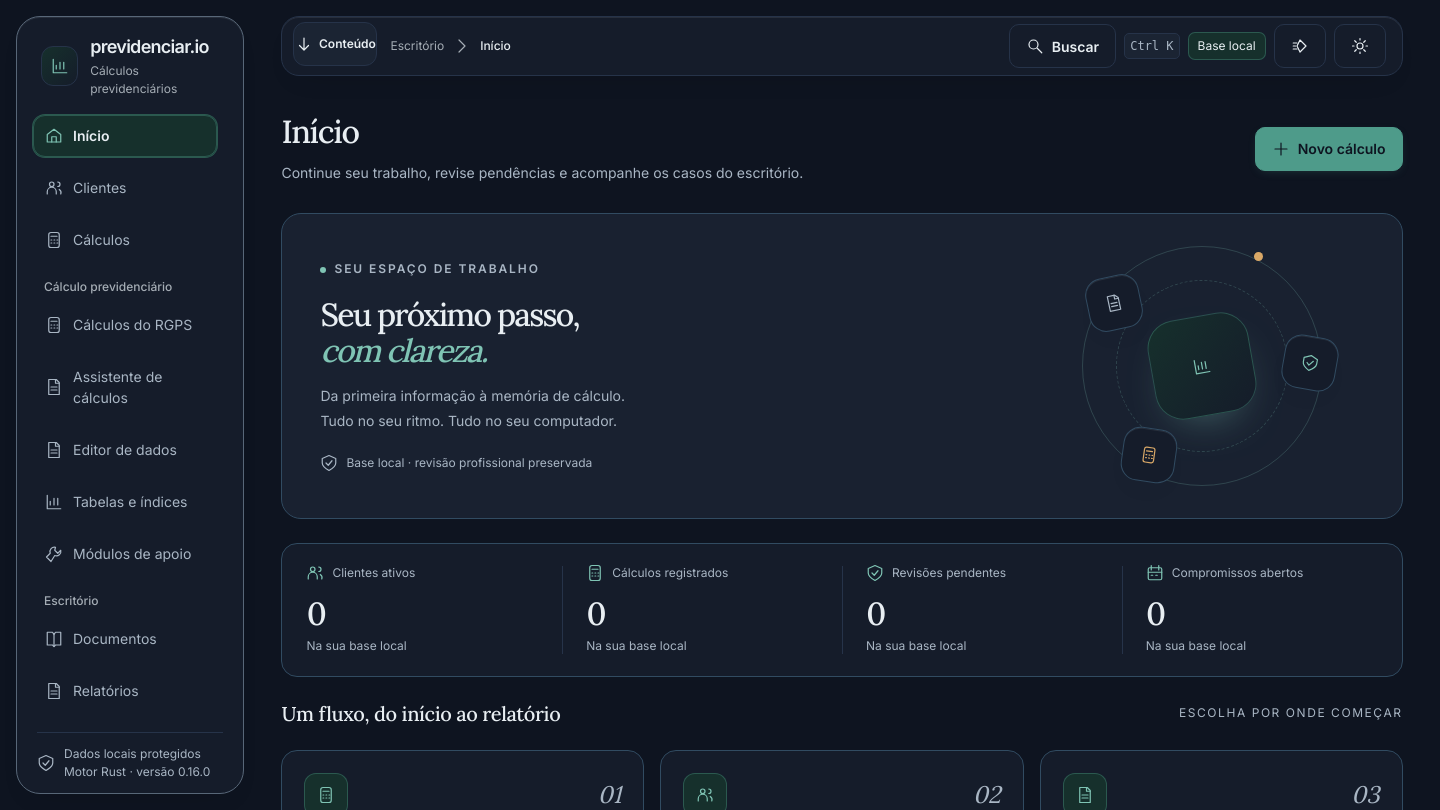
Test: desktop UI workflows with mocked IPC boundary › does not accept malformed client birth date
The width and height of the screenshot is (1440, 810).
Expected: the heading "Início" is shown, [281, 111, 359, 152]
Click the button "Clientes" at coordinates (125, 188), box [32, 166, 218, 210]
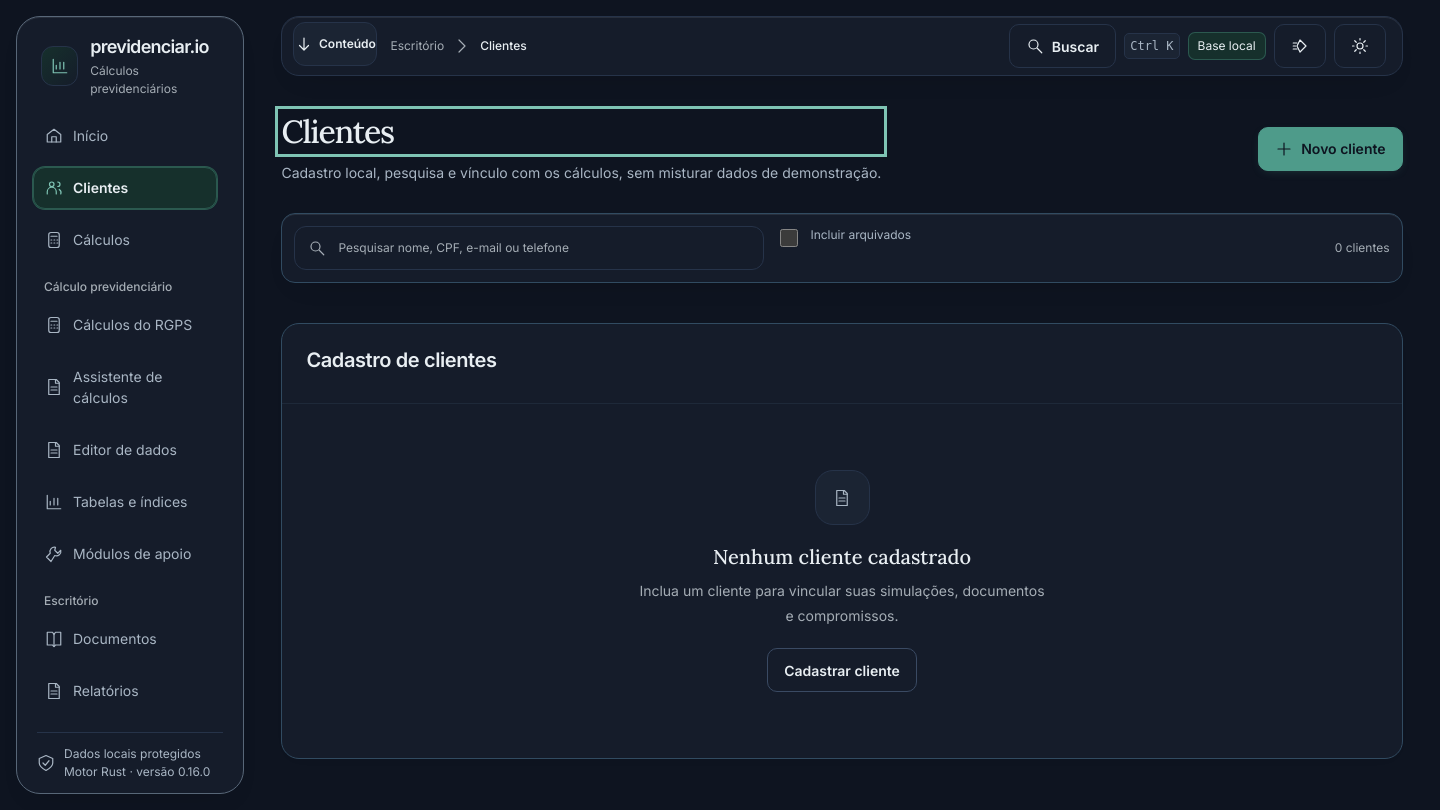
Click the button "Novo cliente" at coordinates (1330, 149), box [1258, 127, 1402, 171]
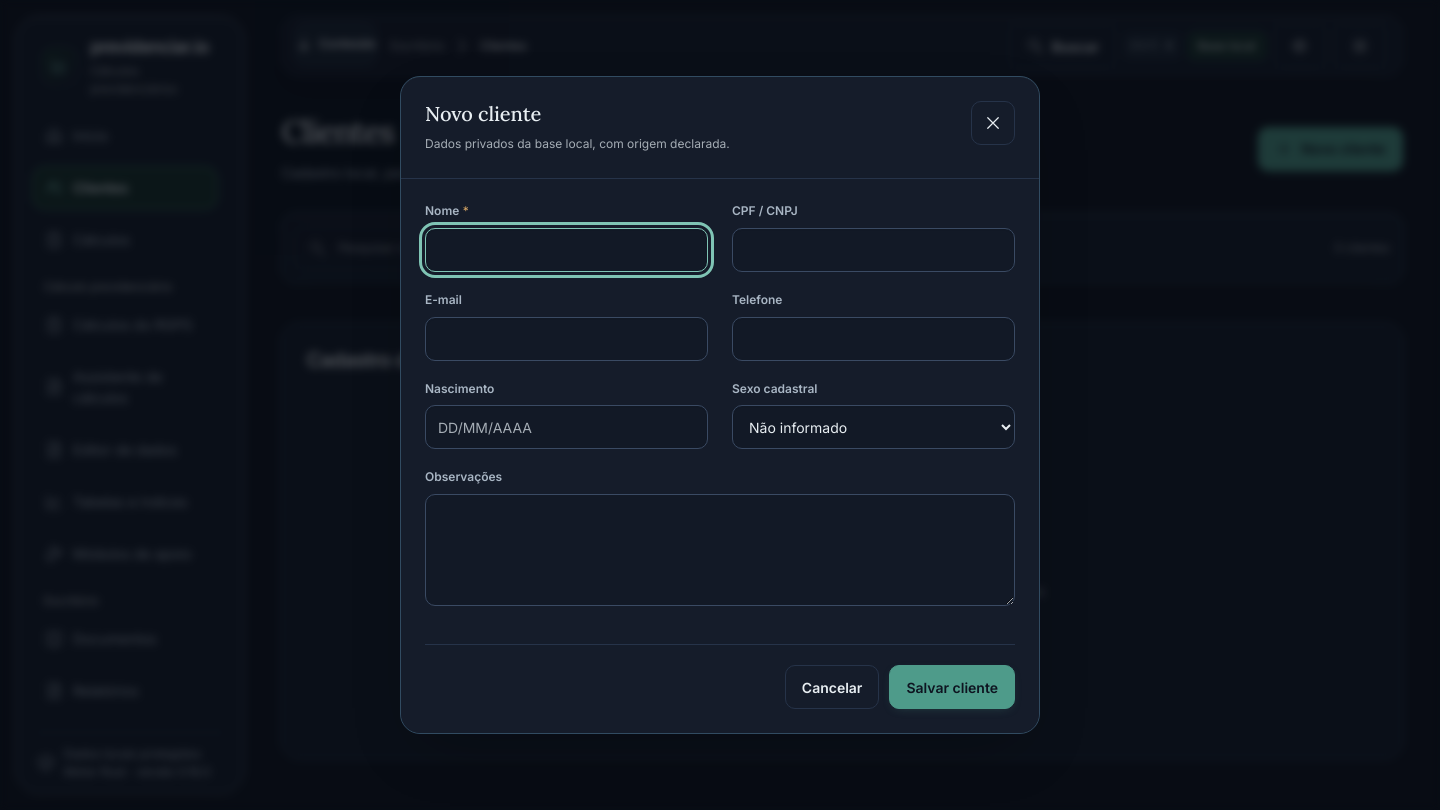
Type "Sintético" into the field labelled "Nome *" at coordinates (566, 250), box [425, 228, 708, 272]
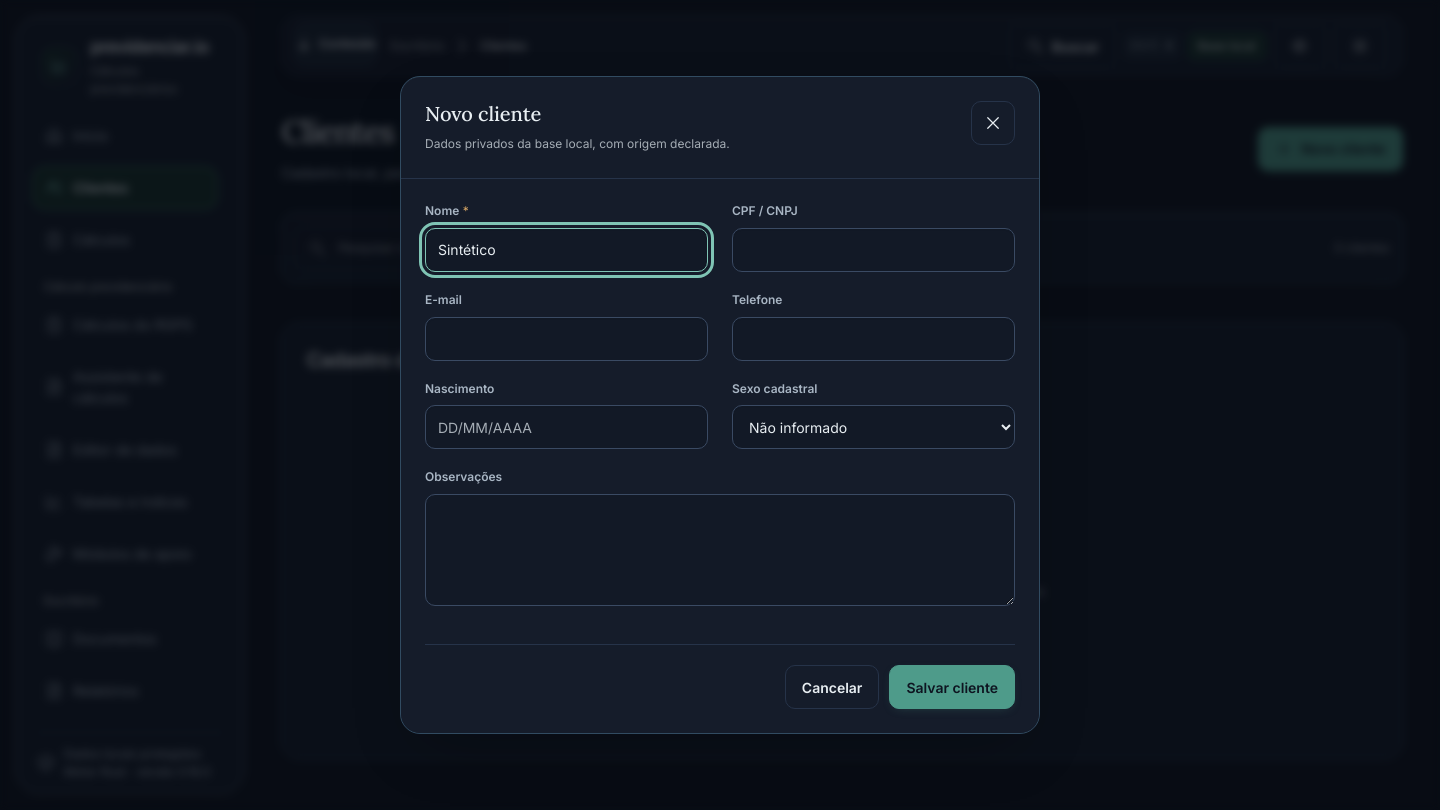
Type "31/02/2026" into the field labelled "Nascimento" at coordinates (566, 428), box [425, 406, 708, 450]
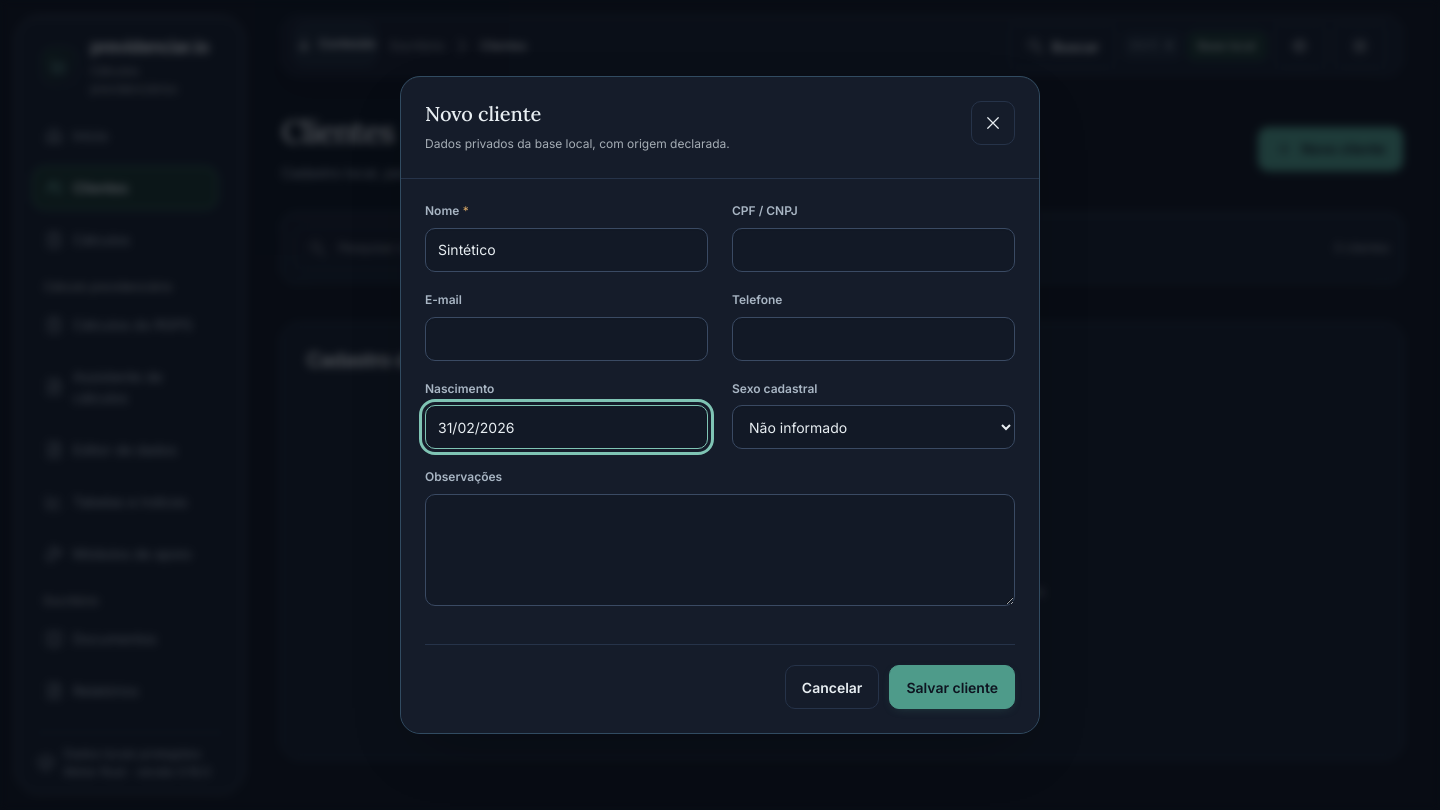
Click the button "Salvar cliente" at coordinates (952, 687), box [889, 665, 1015, 709]
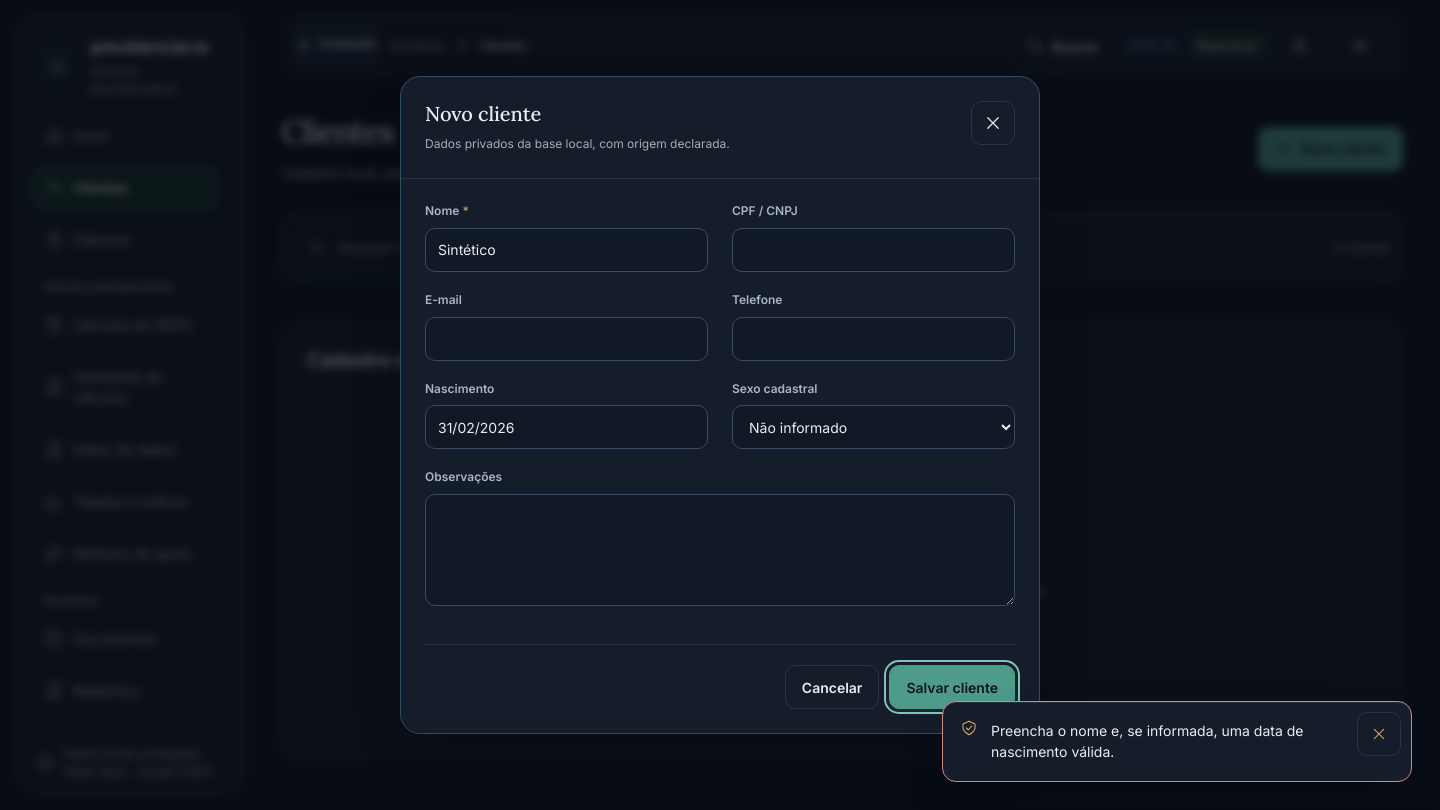
Result: the message shows "data de nascimento válida" at [991, 722, 1303, 760]
